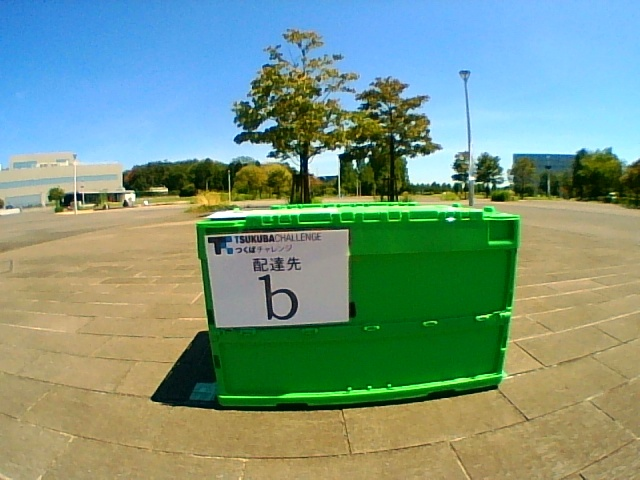green_box: (196, 203, 519, 405)
tag_b: (217, 235, 349, 322)
